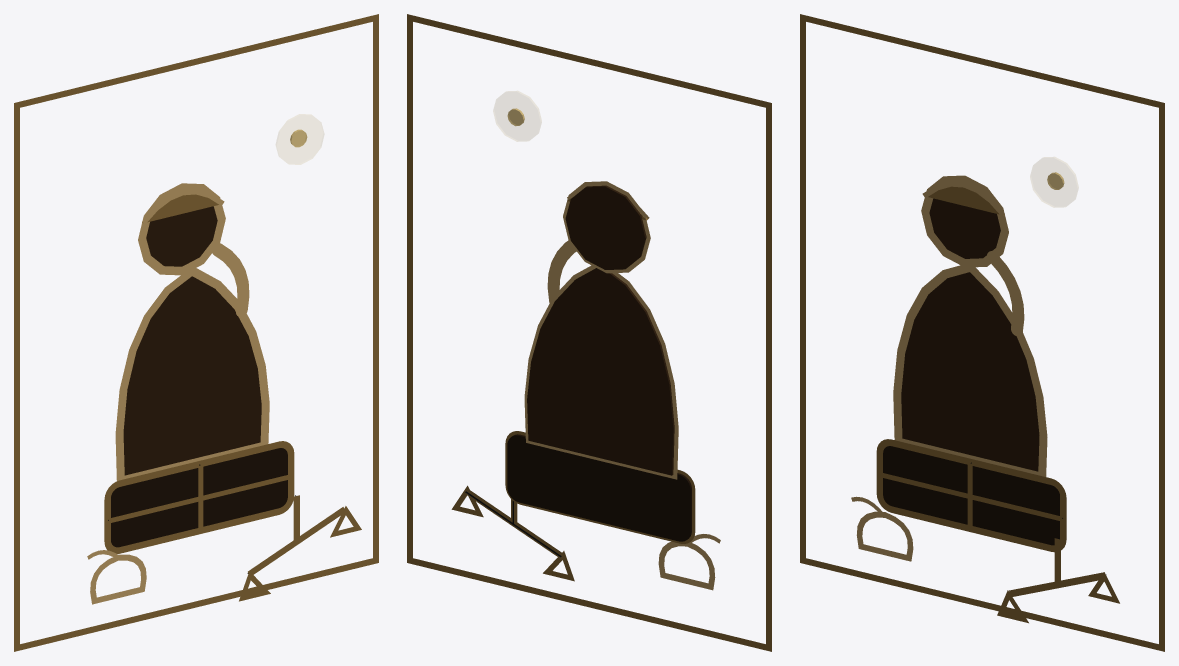
Rendered from npc-kupets-v-unynii.glb.
The picture shows the model from 3 angles, left to right: view 1: azimuth 30°, elevation 25°; view 2: azimuth 150°, elevation 25°; view 3: azimuth 330°, elevation 25°; orthographic projection.
Visible parts, largest first — view 1: npc-kupets-v-unynii; view 2: npc-kupets-v-unynii; view 3: npc-kupets-v-unynii.
Part boxes in pixels (<box>): npc-kupets-v-unynii: <box>14,14,378,651</box>; npc-kupets-v-unynii: <box>407,14,771,651</box>; npc-kupets-v-unynii: <box>800,14,1164,651</box>.
Size of the model in its own units: 1.14 by 1.64 by 0.09.
